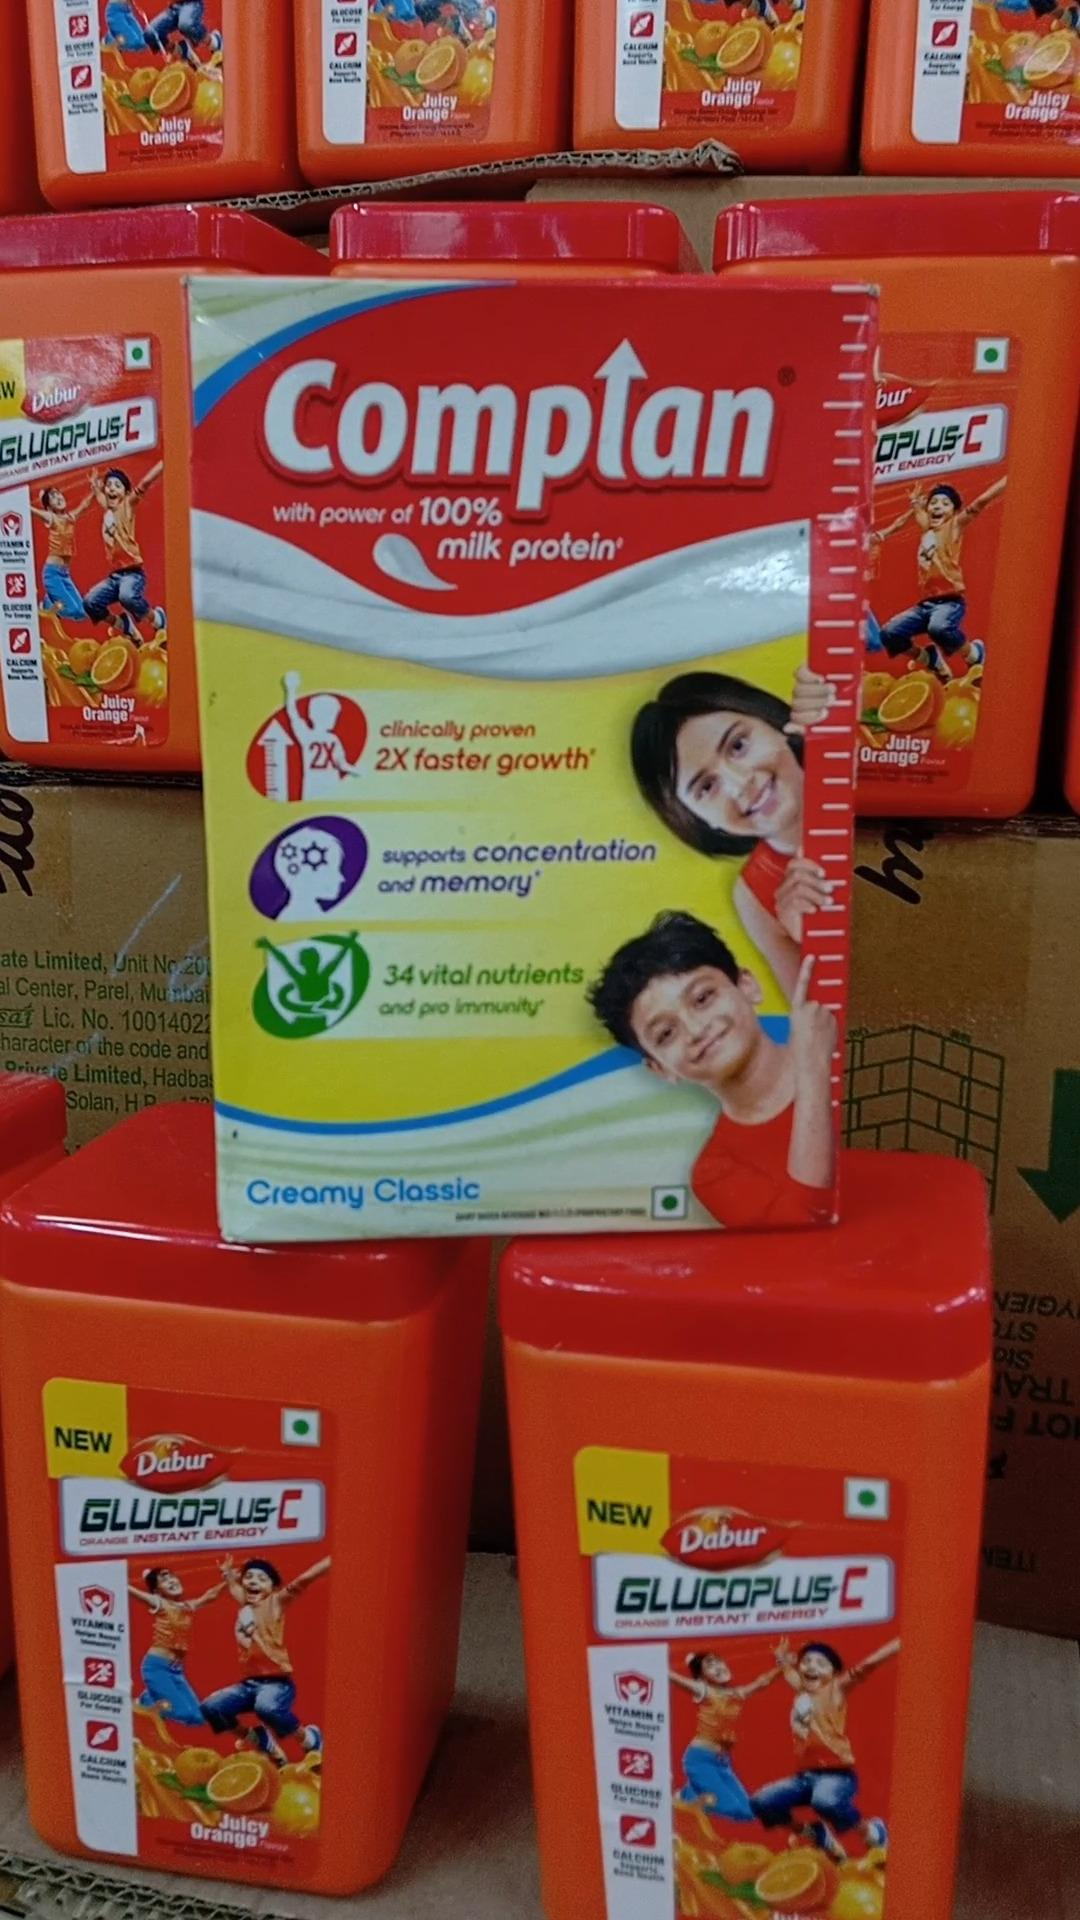COMPLAN_CREAMY_CLASSIC_500_G_PACK: (185, 255, 837, 1242)
